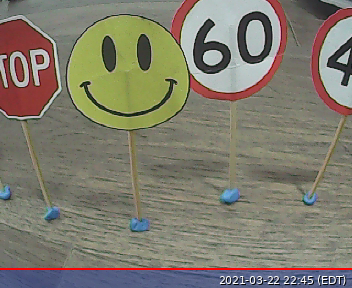Person: (65, 14, 190, 129)
